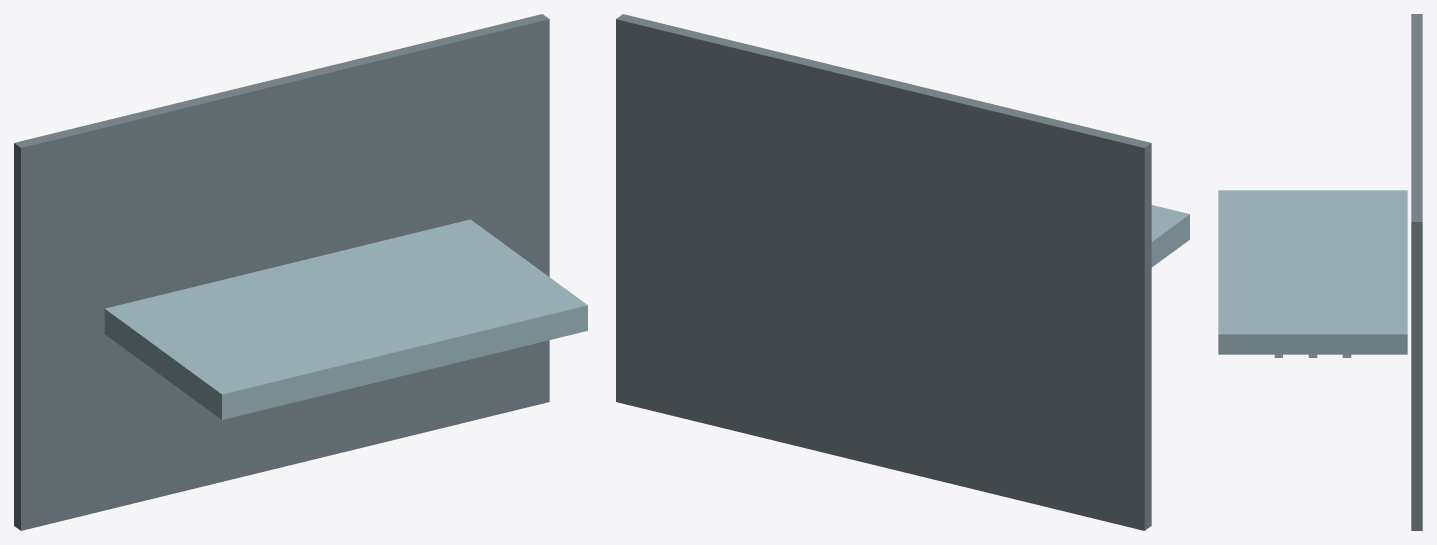
The model's file is surgical-mask-medium.glb.
The picture shows the model from 3 angles, left to right: view 1: azimuth 30°, elevation 25°; view 2: azimuth 150°, elevation 25°; view 3: azimuth 270°, elevation 25°; orthographic projection. The views are drawn at different scales.
Parts seen in each view (by area): view 1: presentation_base_detail, mask_body; view 2: presentation_base_detail, mask_body; view 3: mask_body, presentation_base_detail.
Boxes of the visible parts, x1,y1,x2,y2 form: presentation_base_detail: (14,14,549,530); mask_body: (104,219,587,419); presentation_base_detail: (616,14,1151,530); mask_body: (1151,205,1189,267); mask_body: (1218,190,1407,354); presentation_base_detail: (1411,14,1422,530).
Bounding box in the file's own units: 2.6 × 1.8 × 1.08.
